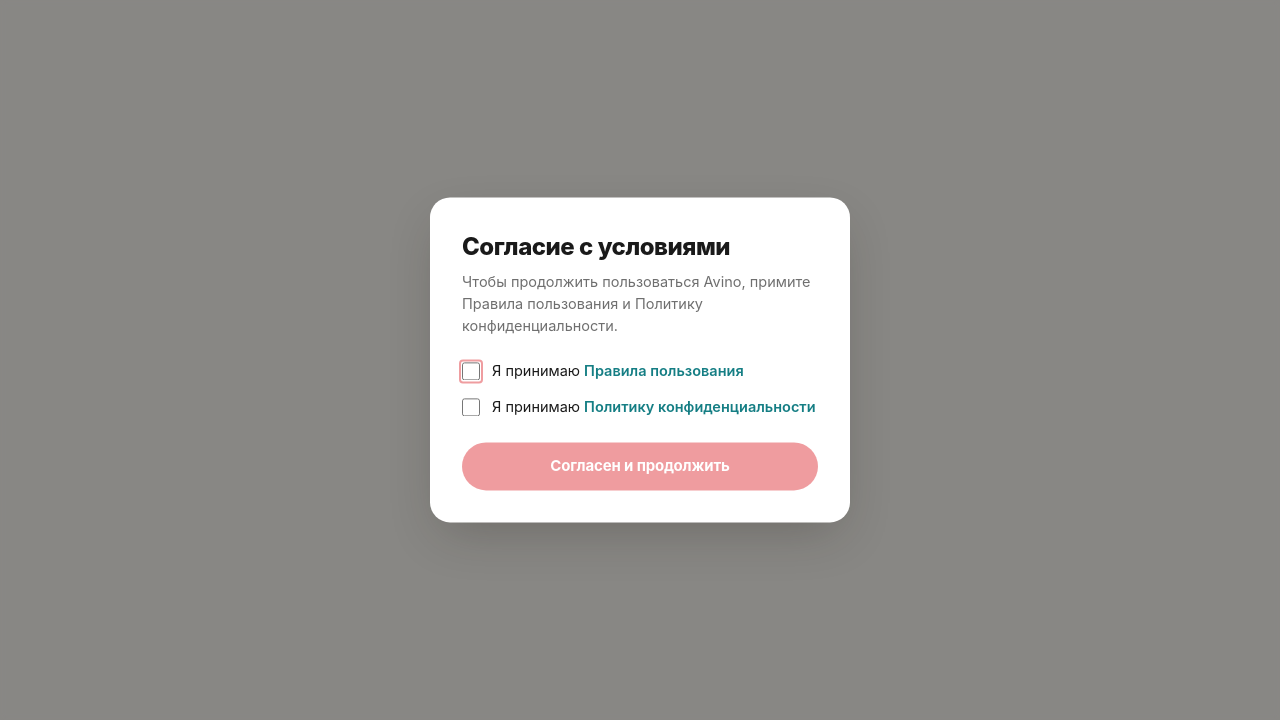
Scenario: LegalConsentModal › кнопка disabled, пока не отмечены обе галочки
Check: the button "Согласен и продолжить" is disabled, box x1=462 y1=442 x2=818 y2=491
Click the checkbox labelled "Я принимаю Правила пользования": x=471, y=372 x1=462 y1=363 x2=480 y2=381
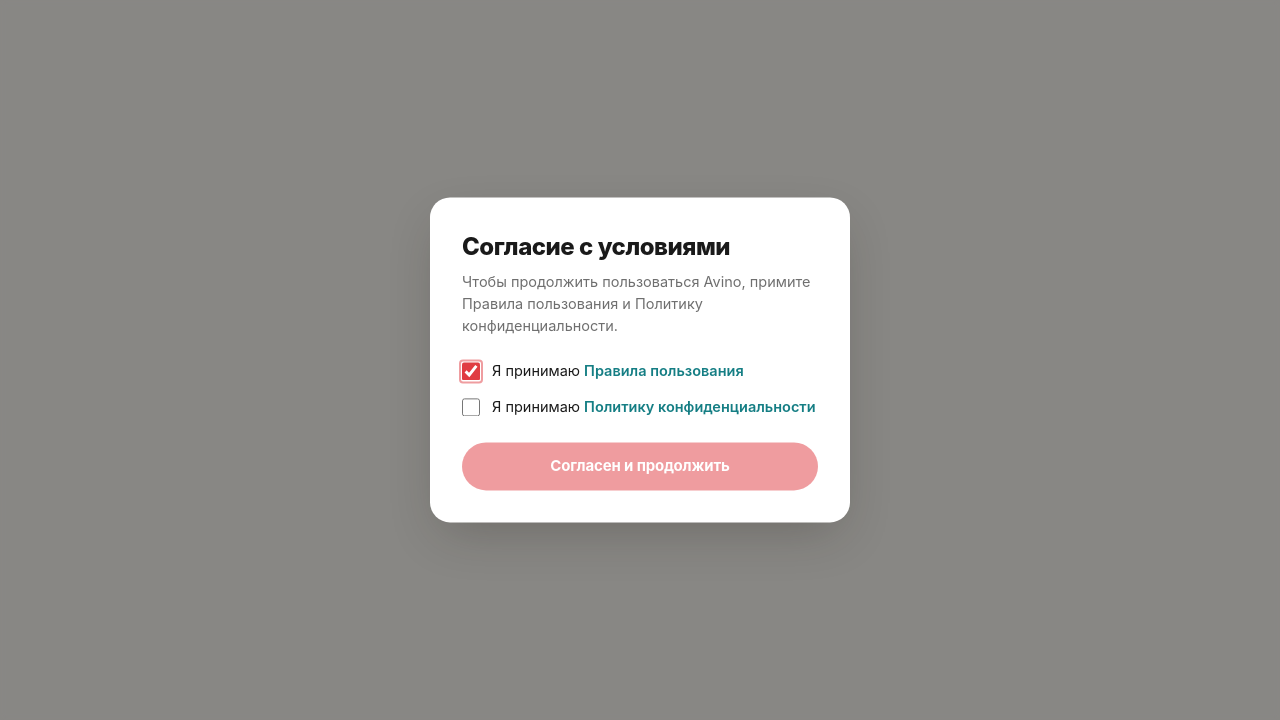
Check: the button "Согласен и продолжить" is disabled, box x1=462 y1=442 x2=818 y2=491
Click the checkbox labelled "Я принимаю Политику конфиденциальности": x=471, y=407 x1=462 y1=398 x2=480 y2=416
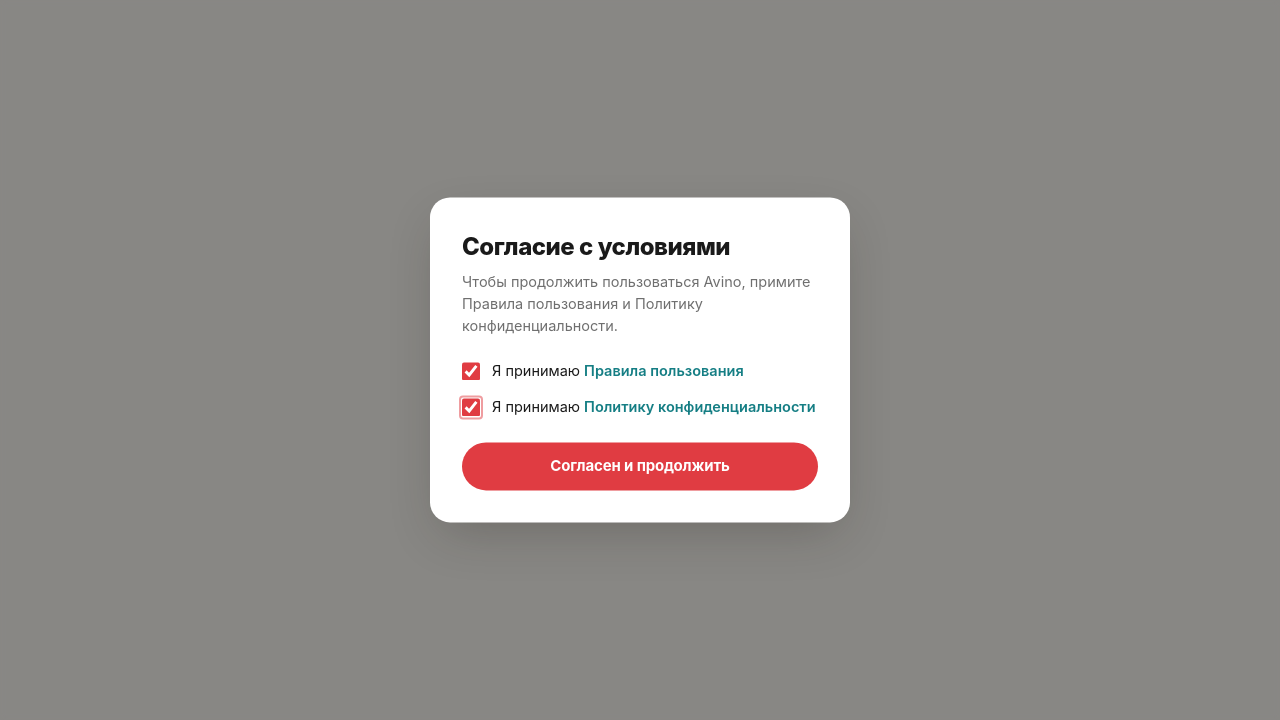
Check: the button "Согласен и продолжить" is enabled, box x1=462 y1=442 x2=818 y2=491
